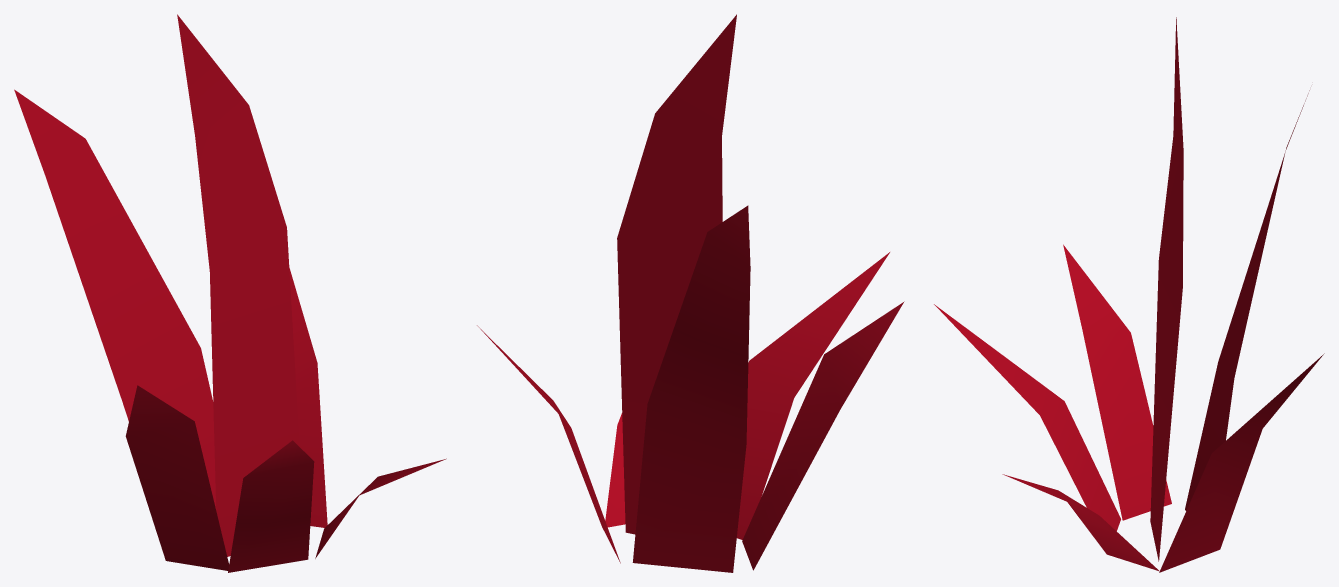
The model's file is Forest_Grass_03.obj.
3 renders of one model, left to right at view 1: azimuth 30°, elevation 25°; view 2: azimuth 150°, elevation 25°; view 3: azimuth 270°, elevation 25°, orthographic. The views are drawn at different scales.
Visible parts, largest first — view 1: Forest_Grass_03; view 2: Forest_Grass_03; view 3: Forest_Grass_03.
Part boxes in pixels (x1=…): Forest_Grass_03: x1=14, y1=14, x2=446, y2=572; Forest_Grass_03: x1=477, y1=14, x2=904, y2=572; Forest_Grass_03: x1=934, y1=17, x2=1324, y2=572.
Size of the model in its own units: 0.1335 by 0.2499 by 0.1789.
